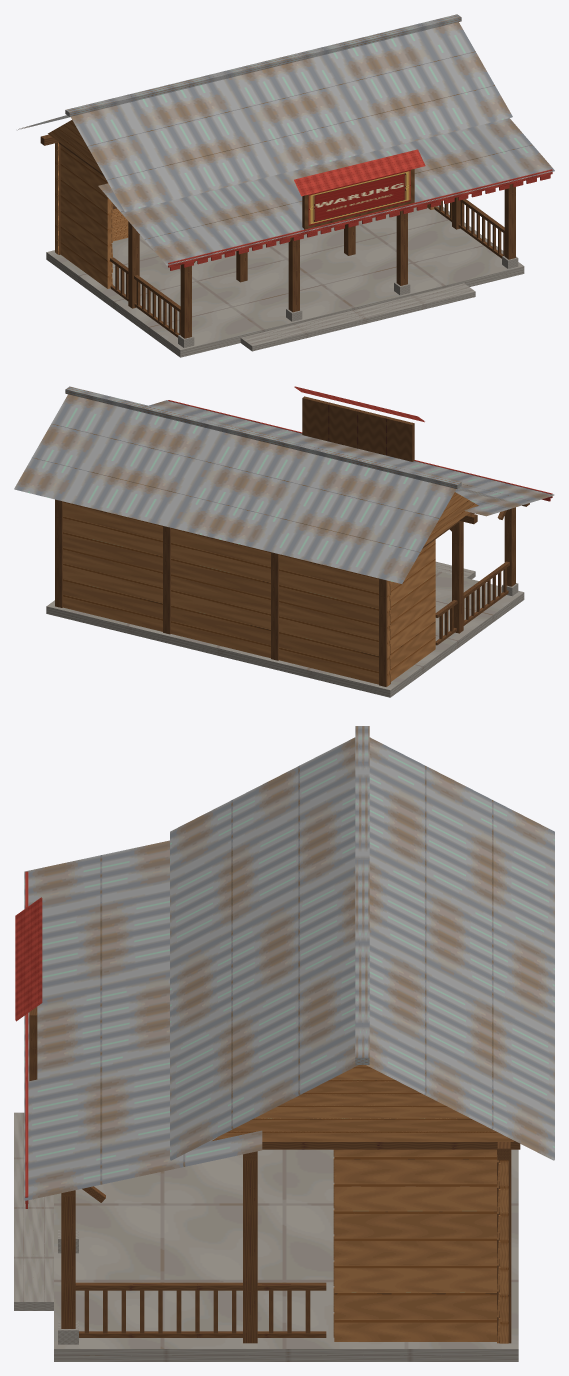
The model's file is warung_kopi.glb.
3 views of the same model, one above another, from view 1: azimuth 30°, elevation 25°; view 2: azimuth 150°, elevation 25°; view 3: azimuth 270°, elevation 25° (orthographic). The views are drawn at different scales.
Visible parts, largest first — view 1: Warung_Kopi; view 2: Warung_Kopi; view 3: Warung_Kopi.
Part boxes in pixels (x1,y1,x2,y2): Warung_Kopi: (17, 14, 554, 357); Warung_Kopi: (14, 386, 554, 697); Warung_Kopi: (14, 726, 554, 1361).
Bounding box in the file's own units: 9.8 × 4.47 × 6.75.
Materials: 1 (1 with a texture image).
